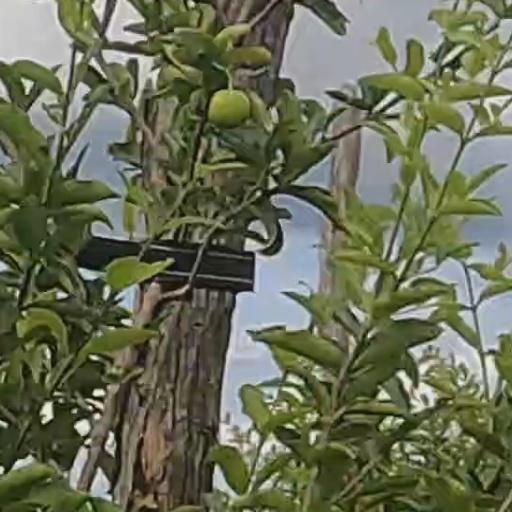acerola: (209, 89, 250, 127)
